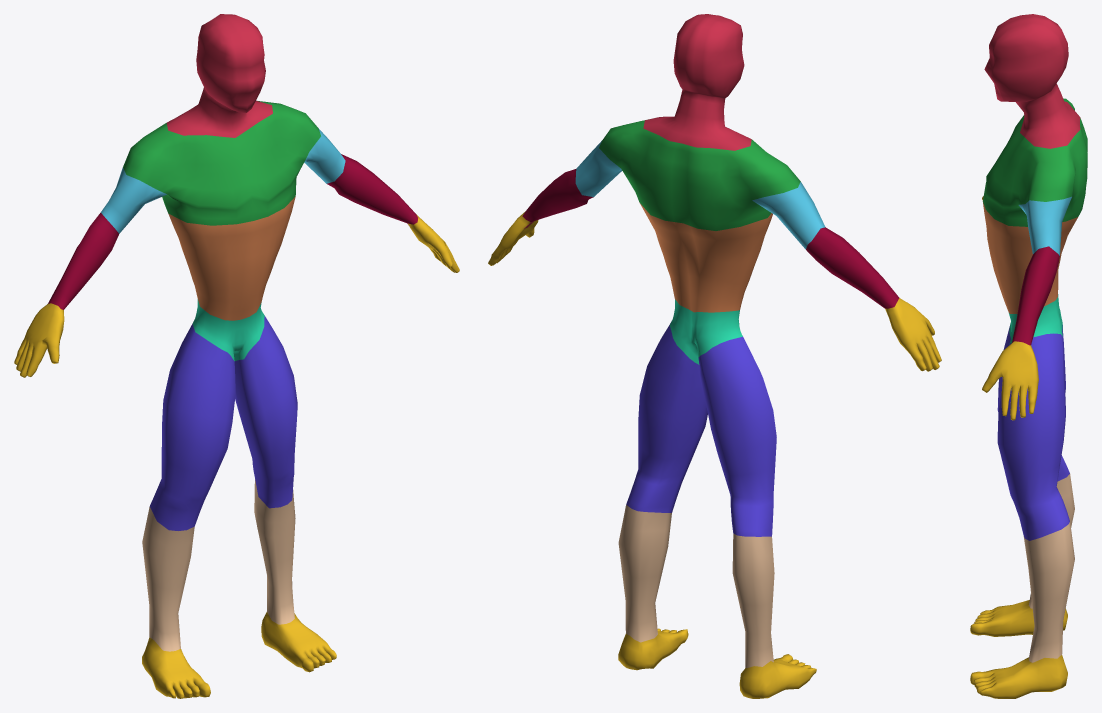
The model's file is generatedbody.glb.
3 views of the same model, side by side, from view 1: azimuth 30°, elevation 25°; view 2: azimuth 150°, elevation 25°; view 3: azimuth 270°, elevation 25° (orthographic). The views are drawn at different scales.
Visible parts, largest first — view 1: body; view 2: body; view 3: body.
Part boxes in pixels (left/top/right/bottom): body: left=14, top=14, right=459, bottom=698; body: left=488, top=14, right=941, bottom=698; body: left=970, top=14, right=1087, bottom=698.
Size of the model in its own units: 1.23 by 1.75 by 0.2894.
